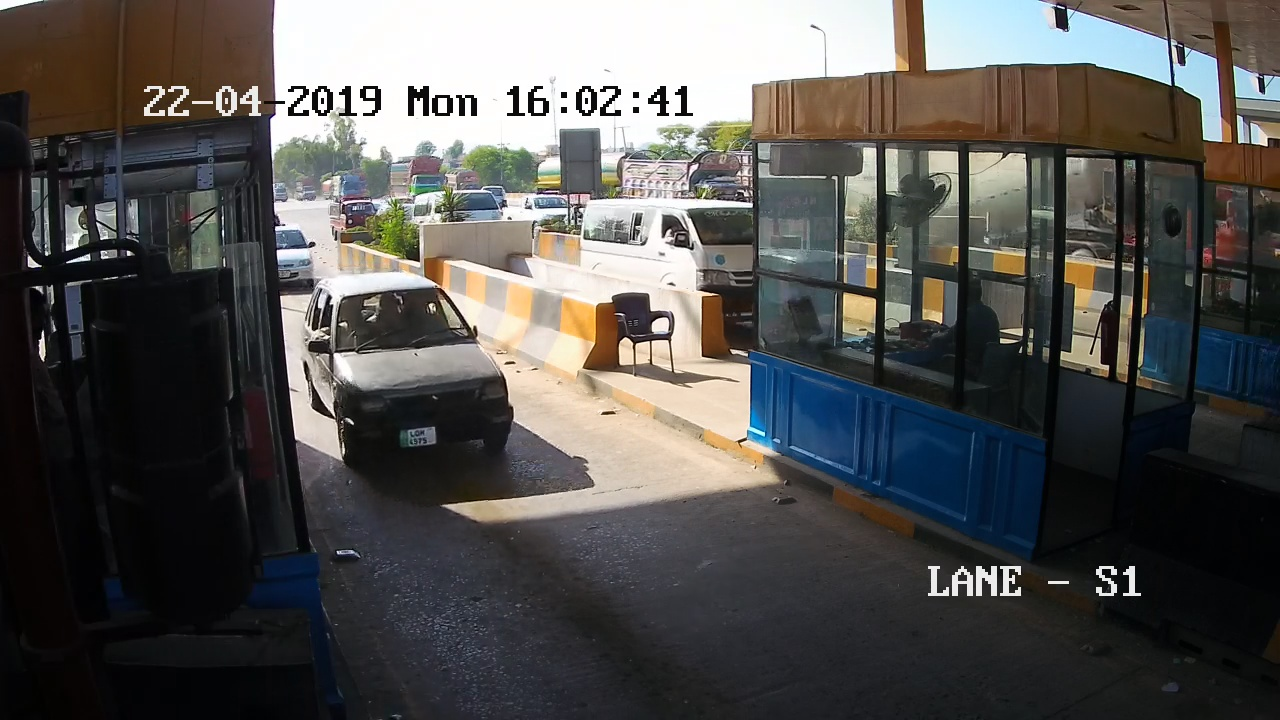Number Plate (Car): (396, 425, 438, 447)
